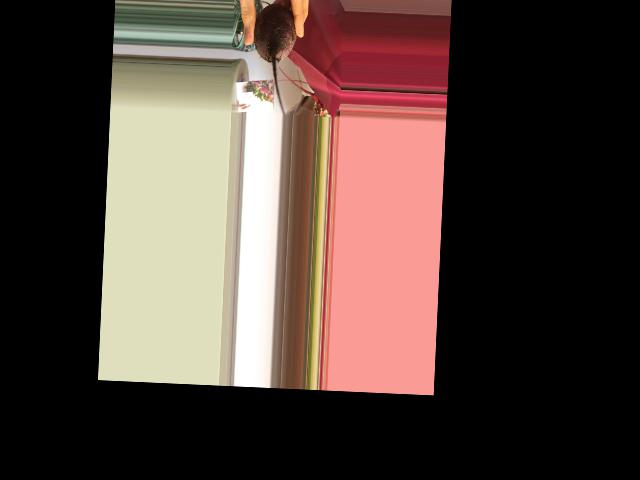beet: (250, 1, 297, 116)
